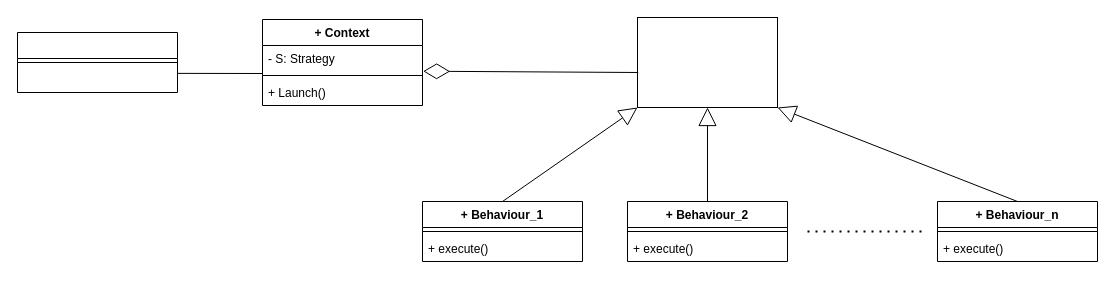
The diagram is 1115 pixels wide and 282 high, and some of its shapes have lost their labels. The shapes that lost their labels are listed below. From the top down, each one's centre as x and y in pixels, then its label:
point 97,62: + Client
point 707,62: <<Abstract>> + Strategy + execute()
